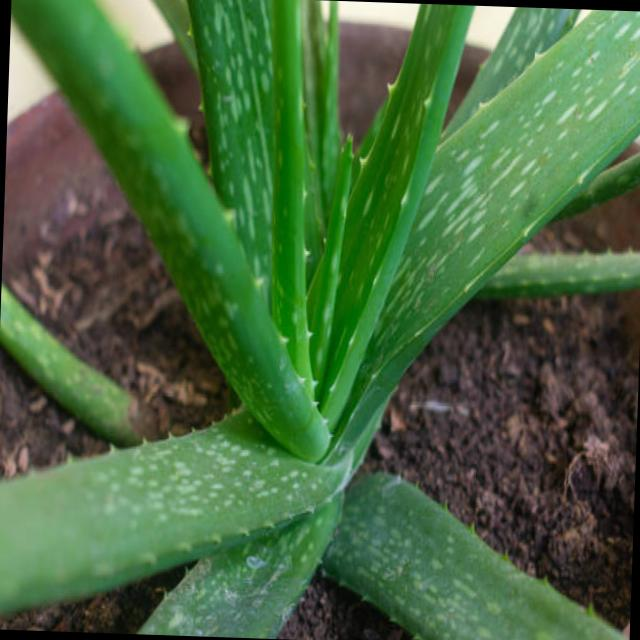AloeVera: (17, 34, 595, 621)
